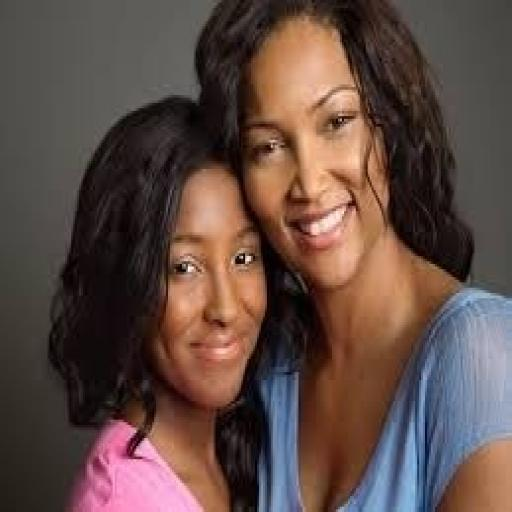hugging: (193, 0, 510, 509), (45, 92, 279, 510)
